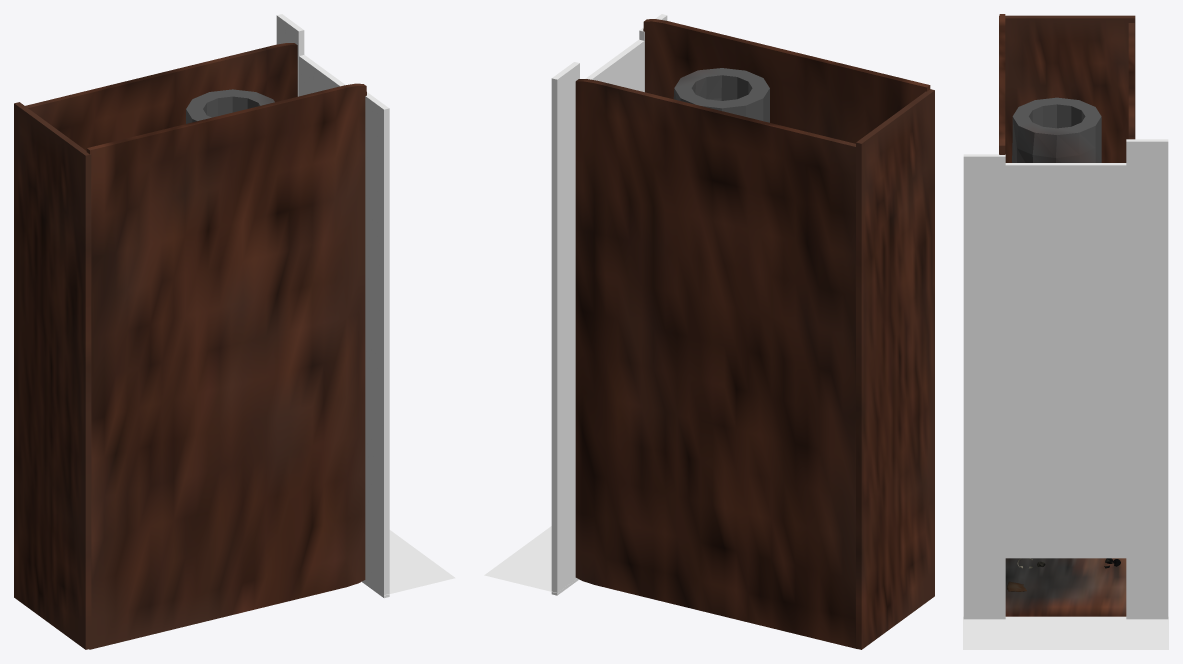
The model's file is Salle des déchets.fbx.
3 views of the same model, side by side, from view 1: azimuth 30°, elevation 25°; view 2: azimuth 150°, elevation 25°; view 3: azimuth 270°, elevation 25° (orthographic). The views are drawn at different scales.
Visible parts, largest first — view 1: Boîte 1, Mur fond, Boîte 5, Boîte 3, Plan 1, Tube dechet, Boîte 7, Boîte 4; view 2: Boîte 5, Mur fond, Boîte 1, Boîte 4, Tube dechet, Plan 1, Boîte 7; view 3: Boîte 7, Boîte 3, Boîte 4, Mur fond, Sol, Plan 1, Tube dechet, Boîte 1, Boîte 5, Deschets.
Boxes of the visible parts, bbox=[...] form: Boîte 1: bbox=[86, 83, 366, 649]; Mur fond: bbox=[14, 102, 91, 649]; Boîte 5: bbox=[25, 43, 297, 150]; Boîte 3: bbox=[362, 92, 389, 598]; Plan 1: bbox=[384, 530, 455, 595]; Tube dechet: bbox=[186, 89, 274, 123]; Boîte 7: bbox=[299, 55, 345, 96]; Boîte 4: bbox=[276, 14, 304, 96]; Boîte 5: bbox=[575, 79, 856, 648]; Mur fond: bbox=[856, 89, 934, 649]; Boîte 1: bbox=[643, 19, 930, 143]; Boîte 4: bbox=[551, 62, 579, 595]; Tube dechet: bbox=[673, 68, 769, 122]; Plan 1: bbox=[484, 526, 556, 592]; Boîte 7: bbox=[585, 39, 644, 91]; Boîte 7: bbox=[999, 163, 1135, 558]; Boîte 3: bbox=[963, 154, 1005, 619]; Boîte 4: bbox=[1126, 139, 1168, 619]; Mur fond: bbox=[999, 15, 1135, 162]; Sol: bbox=[1005, 558, 1126, 616]; Plan 1: bbox=[963, 616, 1168, 649]; Tube dechet: bbox=[1012, 97, 1101, 162]; Boîte 1: bbox=[999, 14, 1005, 154]; Boîte 5: bbox=[1128, 23, 1134, 139]; Deschets: bbox=[1007, 558, 1120, 591].
Size of the model in its own units: 15.15 by 20.78 by 8.07.
